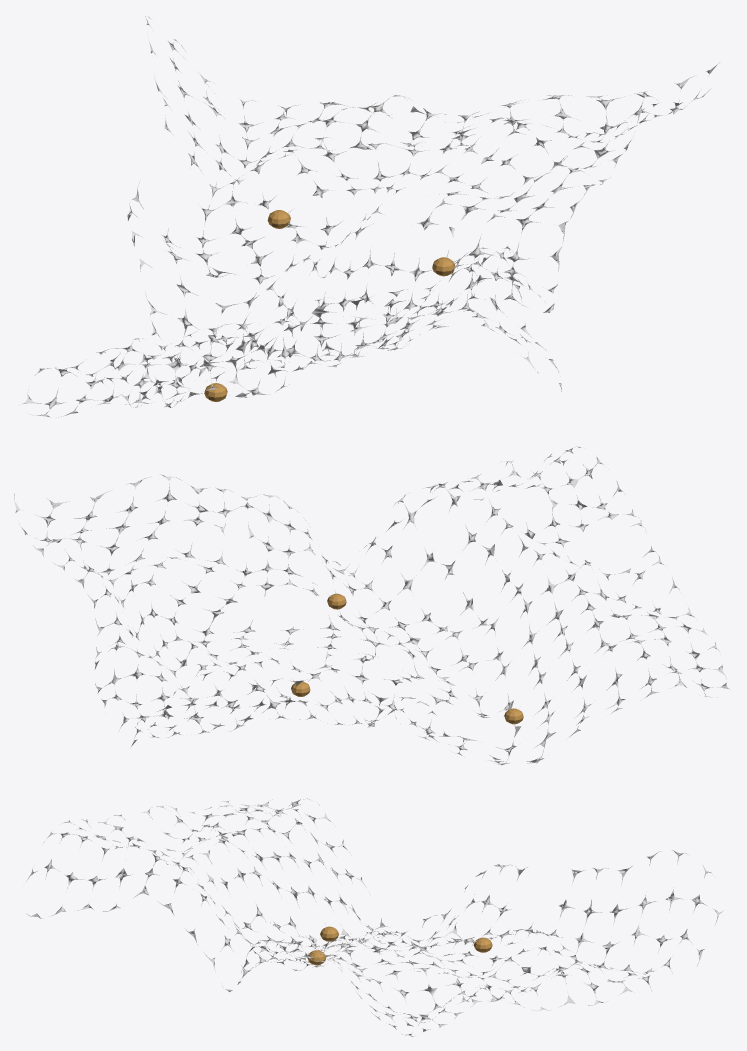
The model's file is FilletPeche.fbx.
The picture shows the model from 3 angles, top to bottom: view 1: azimuth 30°, elevation 25°; view 2: azimuth 150°, elevation 25°; view 3: azimuth 270°, elevation 25°; orthographic projection. The views are drawn at different scales.
Visible parts, largest first — view 1: GhostNet; view 2: GhostNet; view 3: GhostNet.
Boxes of the visible parts, x1=… form: GhostNet: x1=21, y1=16, x2=719, y2=417; GhostNet: x1=14, y1=446, x2=729, y2=765; GhostNet: x1=26, y1=798, x2=723, y2=1036.
Bounding box in the file's own units: 153 × 39.86 × 151.
